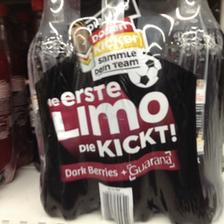Soda: (88, 0, 159, 220), (152, 0, 220, 224), (28, 0, 96, 219)
